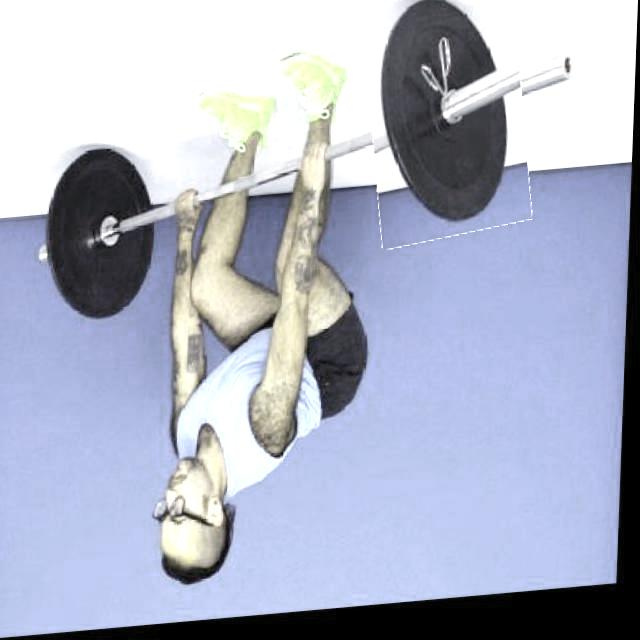barbell: (364, 1, 535, 256)
